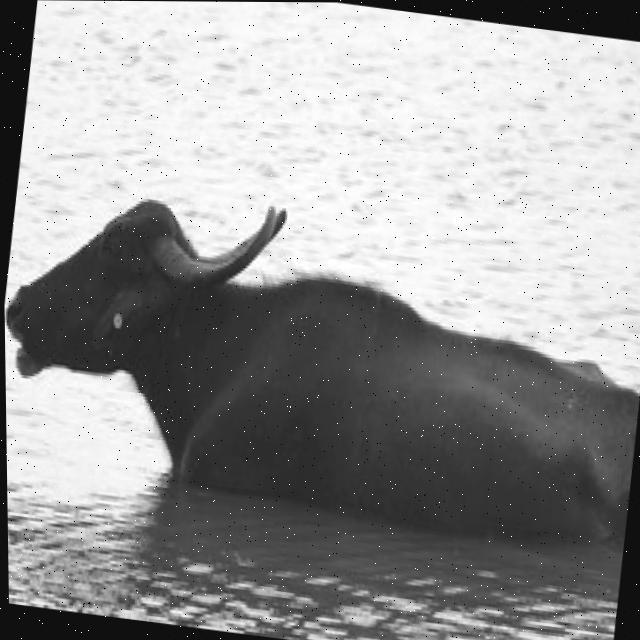Buffalo: (2, 164, 640, 559)
